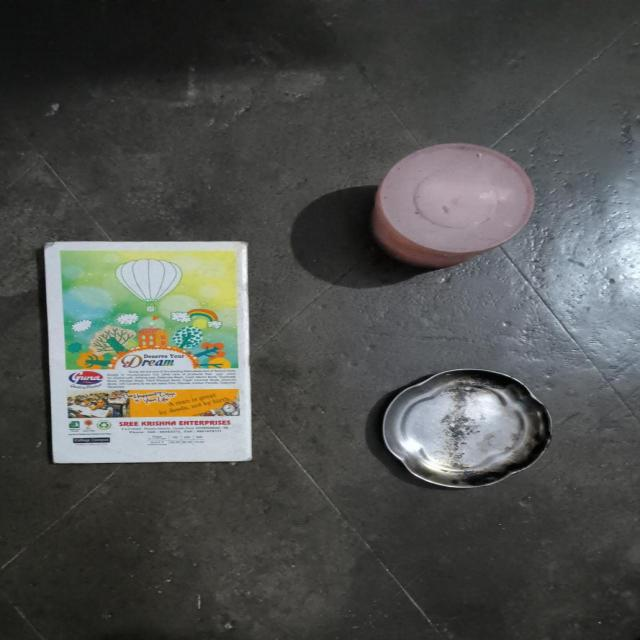dry: (17, 215, 283, 500), (336, 122, 593, 290), (362, 338, 574, 514)
